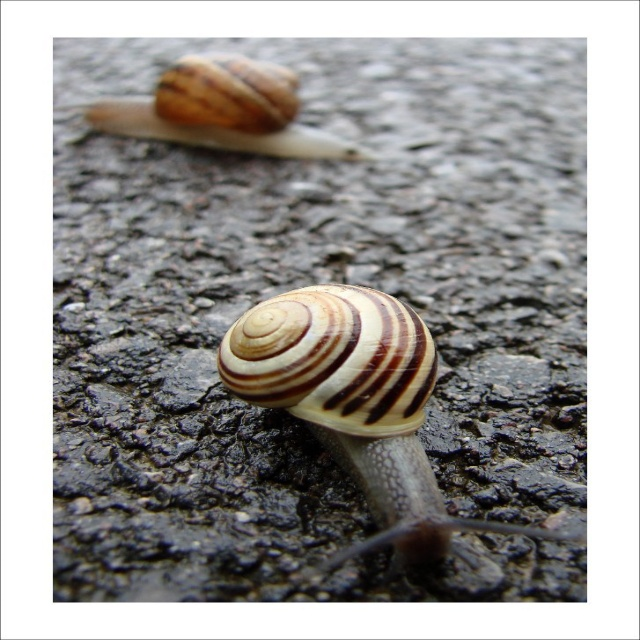Snail: (216, 283, 587, 585), (80, 51, 387, 162)
